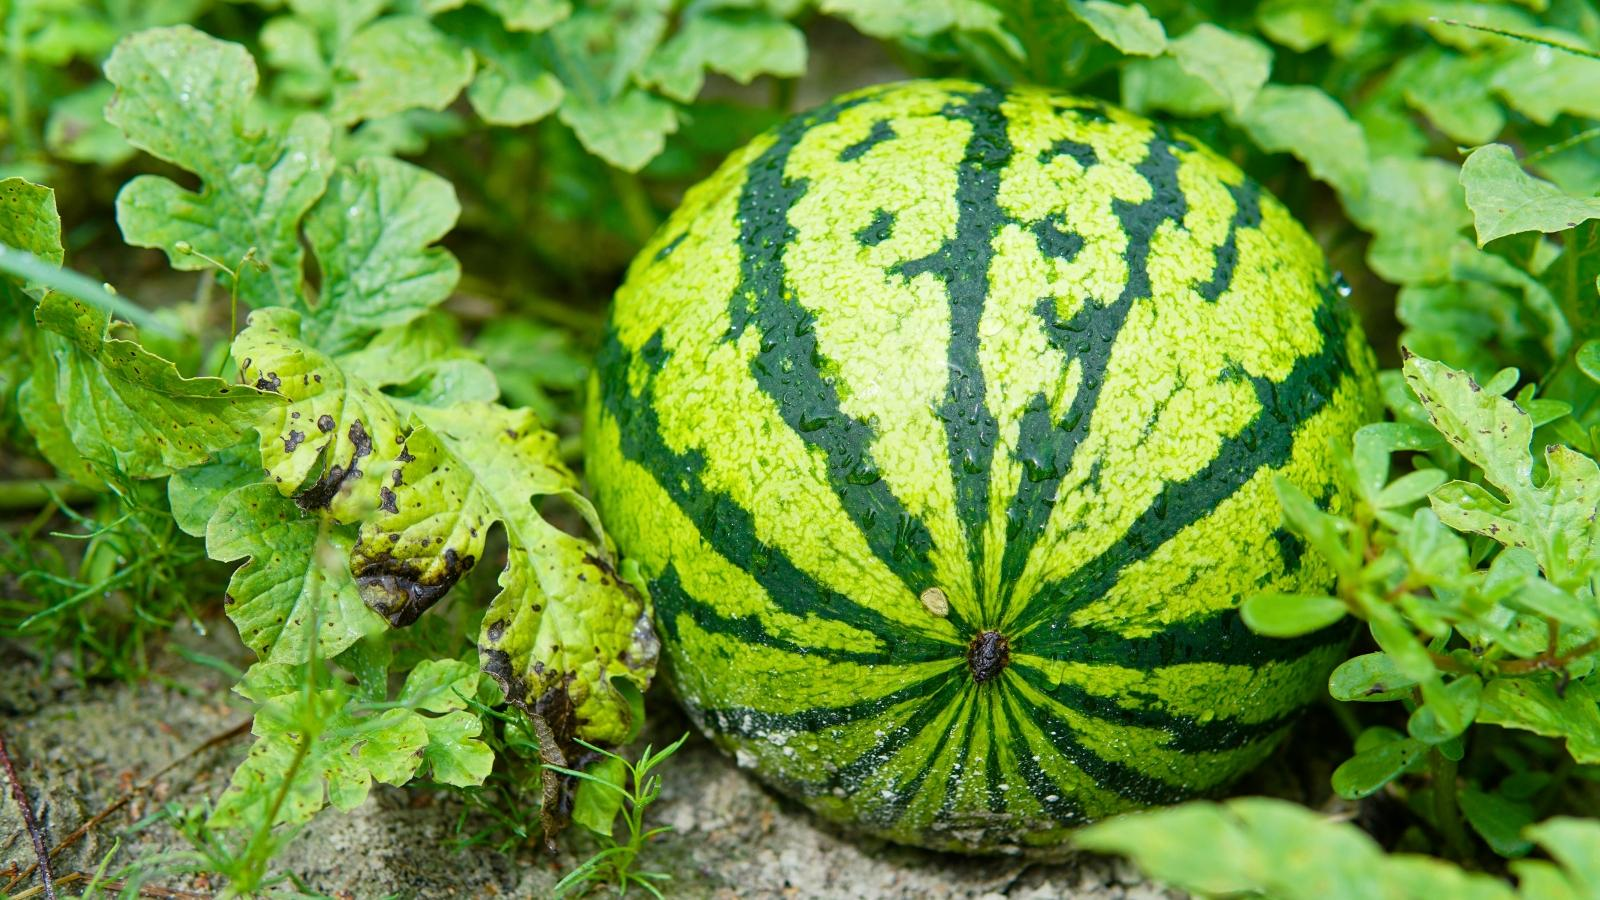watermelon: (567, 57, 1427, 867)
